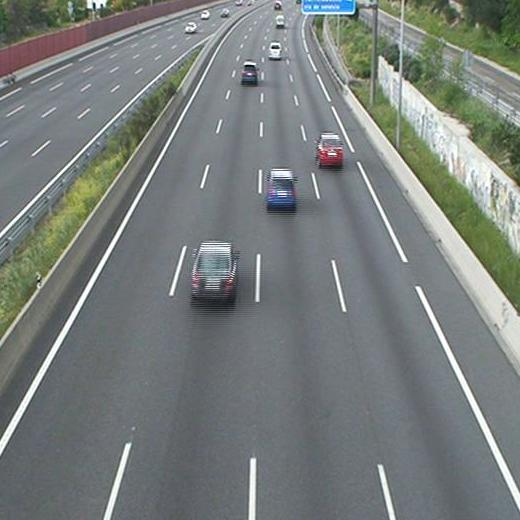car: (190, 242, 239, 303), (265, 169, 298, 211), (314, 133, 344, 170), (241, 61, 259, 86), (267, 41, 283, 61)
